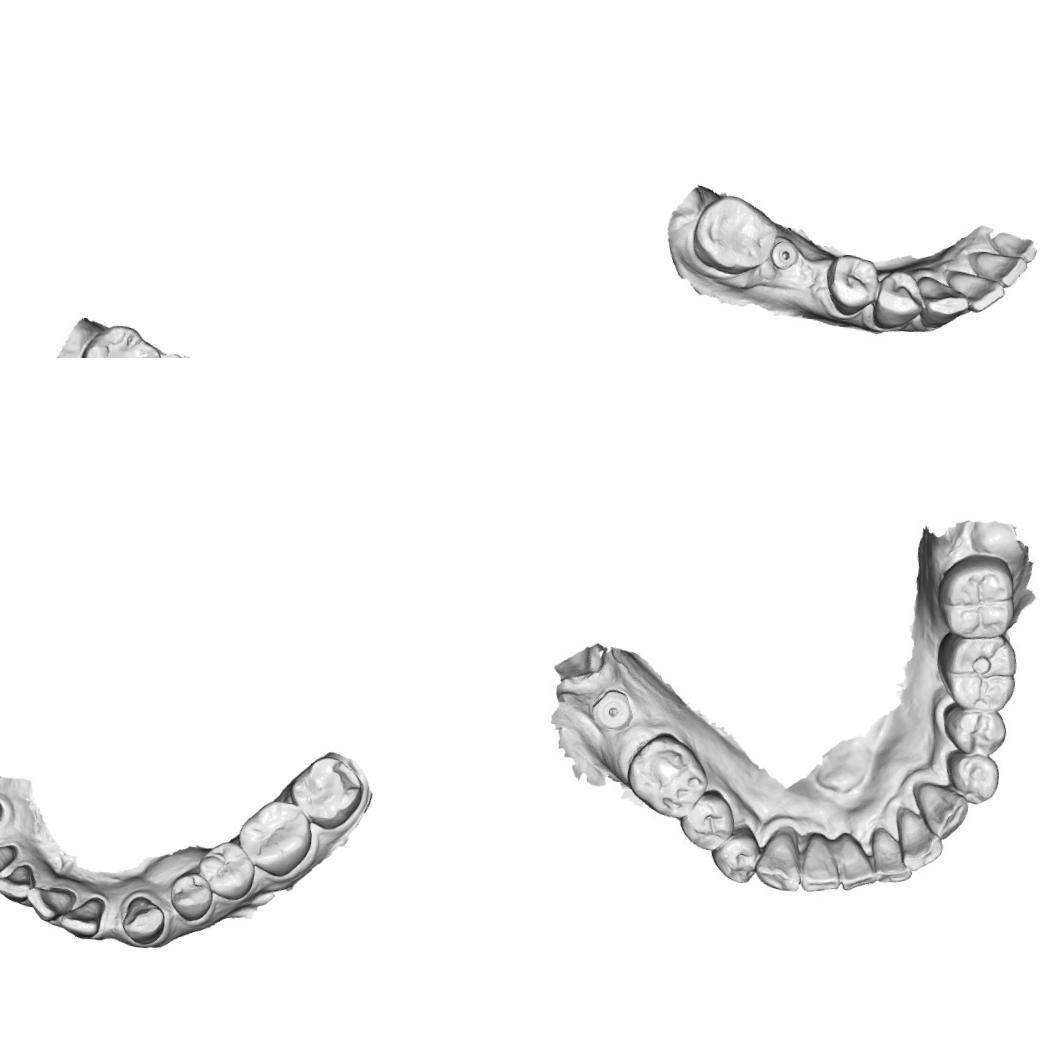canine: (750, 822, 810, 899), (907, 776, 973, 842), (912, 274, 972, 333), (119, 892, 167, 946)
implant: (585, 684, 639, 734), (768, 237, 800, 273)
incisor: (890, 808, 946, 873), (800, 830, 848, 898), (831, 830, 881, 895), (942, 268, 1008, 316), (868, 832, 919, 886), (56, 891, 107, 941), (970, 248, 1028, 291), (24, 884, 74, 924), (988, 230, 1038, 264), (0, 860, 37, 904), (0, 839, 19, 882)
molar: (931, 546, 1018, 644), (688, 191, 780, 279), (620, 728, 708, 818), (930, 628, 1018, 714), (233, 795, 316, 880), (284, 752, 367, 834), (73, 318, 166, 358)
premolar: (820, 250, 884, 320), (194, 836, 259, 904), (938, 699, 1005, 758), (870, 265, 928, 333), (676, 785, 734, 853), (940, 748, 1003, 808), (708, 820, 764, 886), (166, 869, 214, 924)
